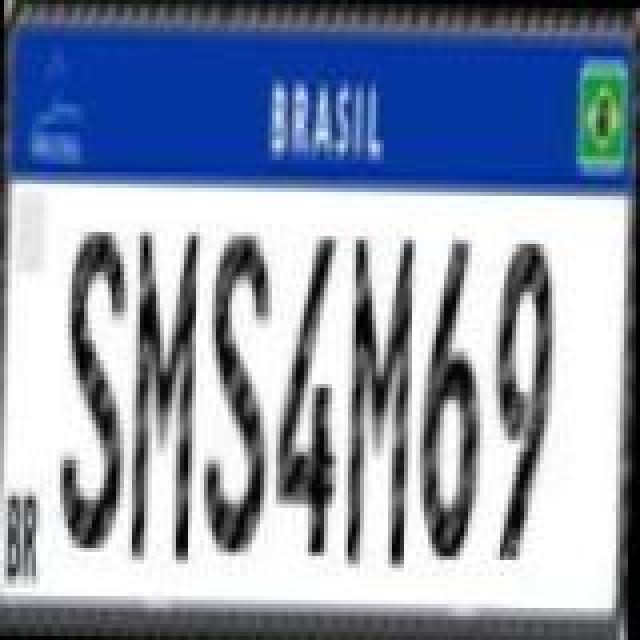4: (272, 228, 340, 560)
6: (414, 232, 486, 560)
9: (486, 236, 558, 564)
M: (132, 230, 200, 566), (348, 236, 416, 572)
S: (58, 222, 130, 554), (202, 226, 274, 558)
